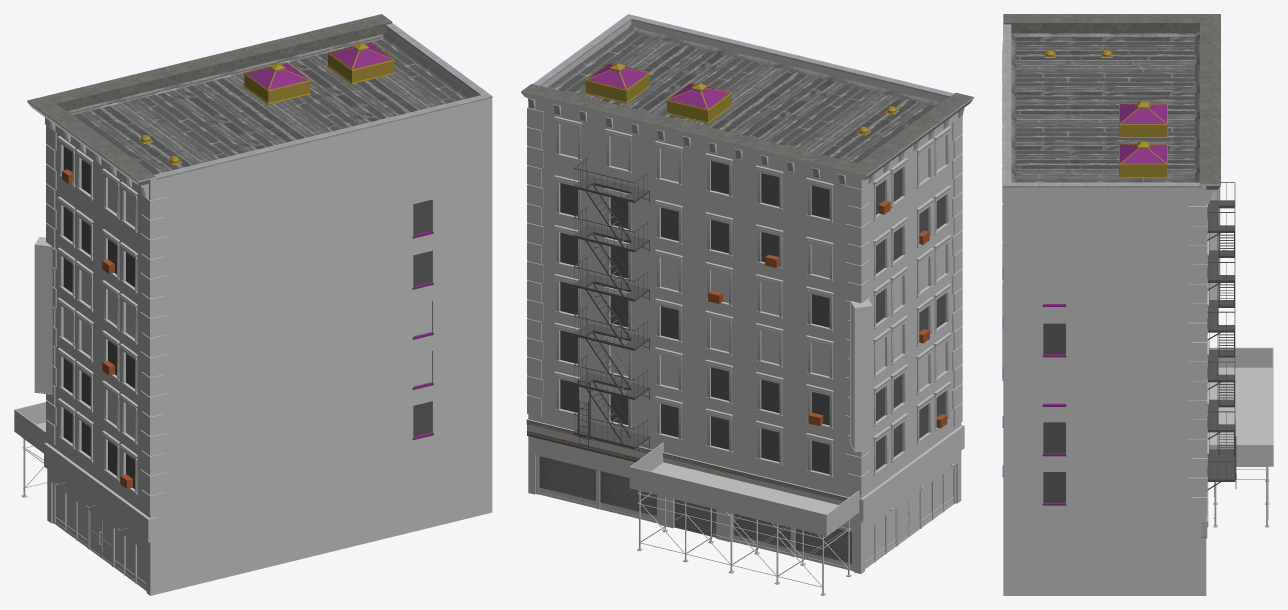
Rendered from mcp_building_27_LOD_0.FBX.
3 views of the same model, side by side, from view 1: azimuth 30°, elevation 25°; view 2: azimuth 150°, elevation 25°; view 3: azimuth 270°, elevation 25° (orthographic). The views are drawn at different scales.
Parts seen in each view (by area): view 1: mcp_building_27_walls, mcp_building_27, mcp_building_27_cornice, mcp_building_27_props_01, mcp_building_27_metal, mcp_building_27_props_02; view 2: mcp_building_27_walls, mcp_building_27, mcp_building_27_cornice, mcp_building_27_props_03, mcp_building_27_props_04, mcp_building_27_props_01, mcp_building_27_metal, mcp_building_27_props_02; view 3: mcp_building_27_walls, mcp_building_27, mcp_building_27_cornice, mcp_building_27_props_03, mcp_building_27_props_01, mcp_building_27_metal.
Boxes of the visible parts, box(x1,y1,x2,y2) form: mcp_building_27_walls: box(46, 27, 492, 595); mcp_building_27: box(14, 146, 431, 590); mcp_building_27_cornice: box(27, 14, 392, 198); mcp_building_27_props_01: box(138, 41, 394, 165); mcp_building_27_metal: box(154, 23, 492, 179); mcp_building_27_props_02: box(62, 169, 132, 488); mcp_building_27_walls: box(526, 20, 962, 573); mcp_building_27: box(535, 124, 964, 595); mcp_building_27_cornice: box(521, 84, 973, 189); mcp_building_27_props_03: box(573, 157, 649, 449); mcp_building_27_props_04: box(539, 456, 851, 563); mcp_building_27_props_01: box(585, 62, 898, 135); mcp_building_27_metal: box(533, 14, 953, 97); mcp_building_27_props_02: box(708, 200, 947, 428); mcp_building_27_walls: box(1002, 31, 1208, 595); mcp_building_27: box(1002, 187, 1273, 527); mcp_building_27_cornice: box(1003, 14, 1220, 204); mcp_building_27_props_03: box(1207, 182, 1236, 490); mcp_building_27_props_01: box(1044, 50, 1167, 178); mcp_building_27_metal: box(1003, 24, 1199, 187).
Bounding box in the file's own units: 2620 × 3049 × 1760.
